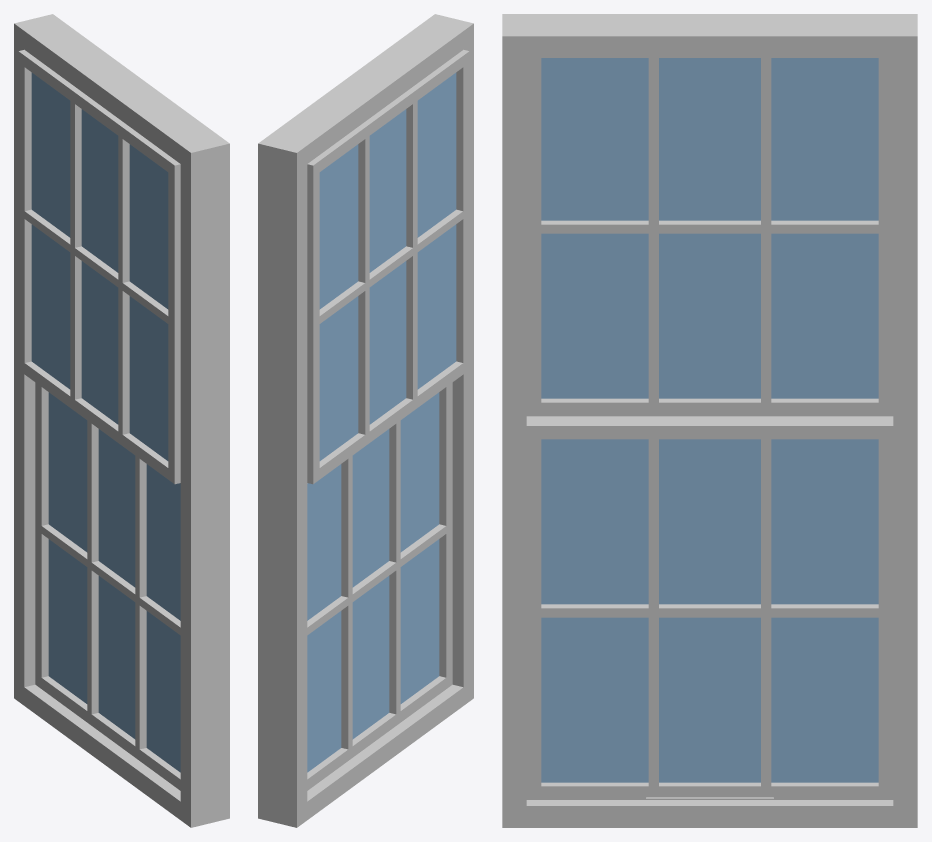
File: Widnow.fbx
3 renders of one model, left to right at view 1: azimuth 30°, elevation 25°; view 2: azimuth 150°, elevation 25°; view 3: azimuth 270°, elevation 25°, orthographic. The views are drawn at different scales.
Visible parts, largest first — view 1: Frame, Window; view 2: Frame, Window; view 3: Frame, Window.
Part boxes in pixels (<box>): Frame: <box>14,14,229,827</box>; Window: <box>35,382,180,790</box>; Frame: <box>258,14,473,827</box>; Window: <box>307,382,452,790</box>; Frame: <box>502,14,917,827</box>; Window: <box>526,416,893,799</box>.
Bounding box in the file's own units: 47.93 × 690 × 328.
